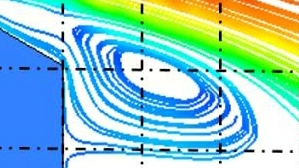vortox: (72, 26, 237, 133)
